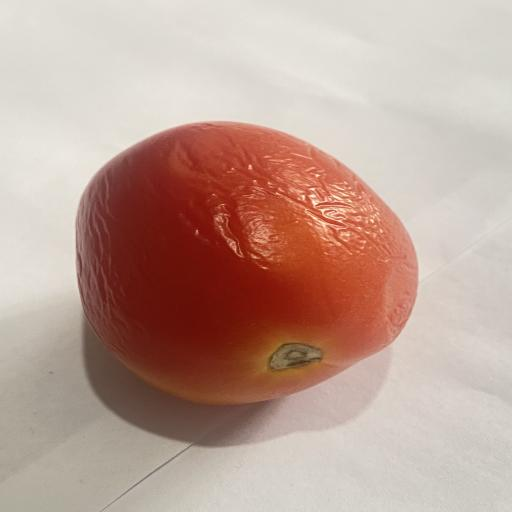spoiled: (76, 122, 418, 404)
